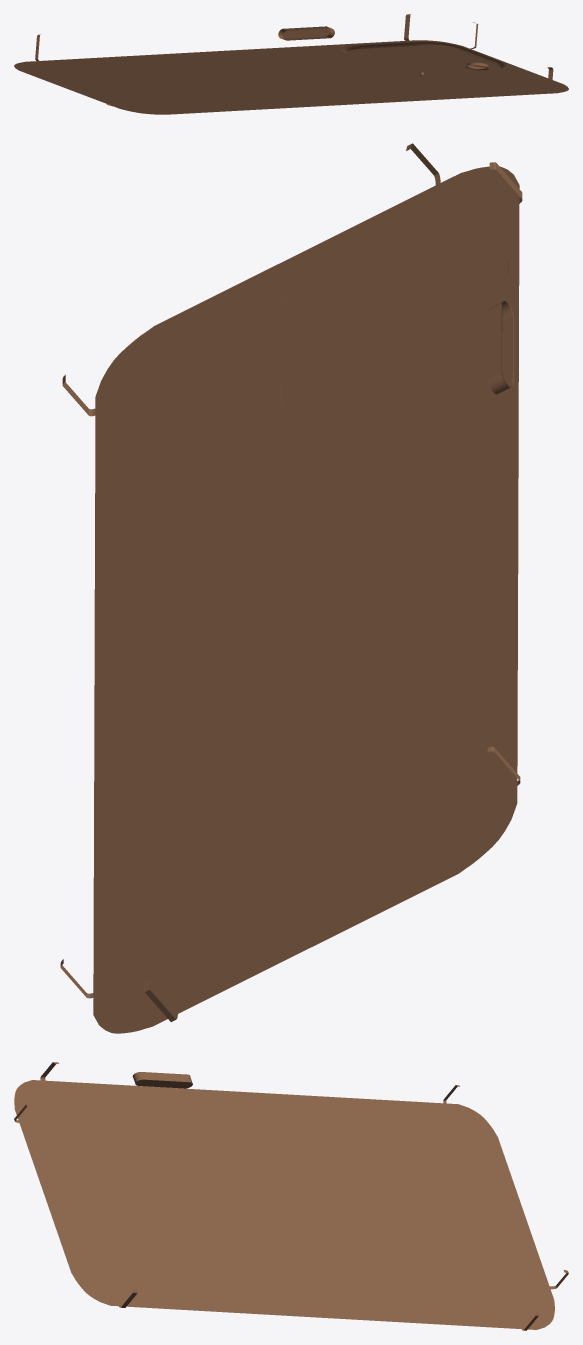
The picture shows the model from 3 angles, top to bottom: view 1: azimuth 30°, elevation 25°; view 2: azimuth 150°, elevation 25°; view 3: azimuth 270°, elevation 25°; orthographic projection. The views are drawn at different scales.
Size of the model in its own units: 0.8426 by 0.5489 by 0.9843.
